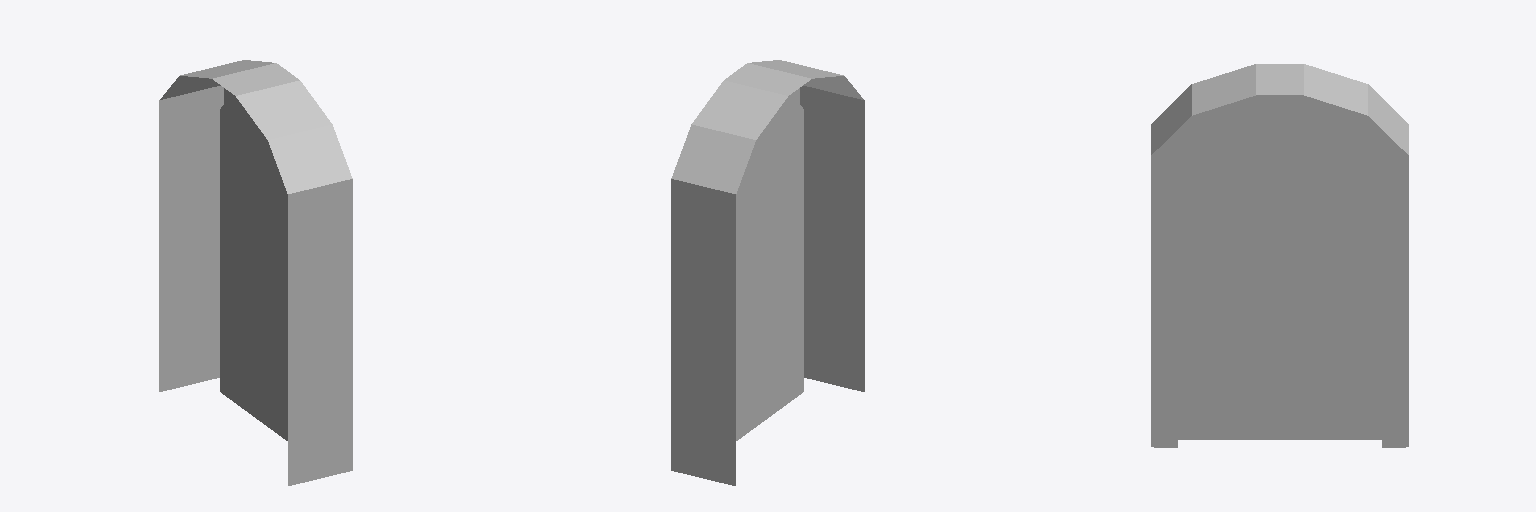
The model's file is city_gate.obj.
3 views of the same model, side by side, from view 1: azimuth 30°, elevation 25°; view 2: azimuth 150°, elevation 25°; view 3: azimuth 270°, elevation 25° (orthographic).
Visible parts, largest first — view 1: Plane; view 2: Plane; view 3: Plane.
Part boxes in pixels (x1,y1,x2,y2): Plane: (159,60,352,485); Plane: (671,60,864,485); Plane: (1151,64,1408,447).
Size of the model in its own units: 0.2206 by 1.15 by 0.7577.